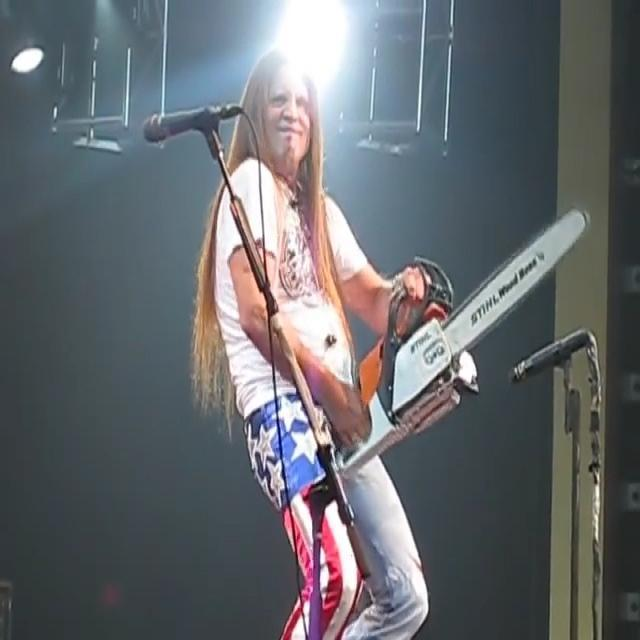Chainsaw: (330, 189, 601, 481)
